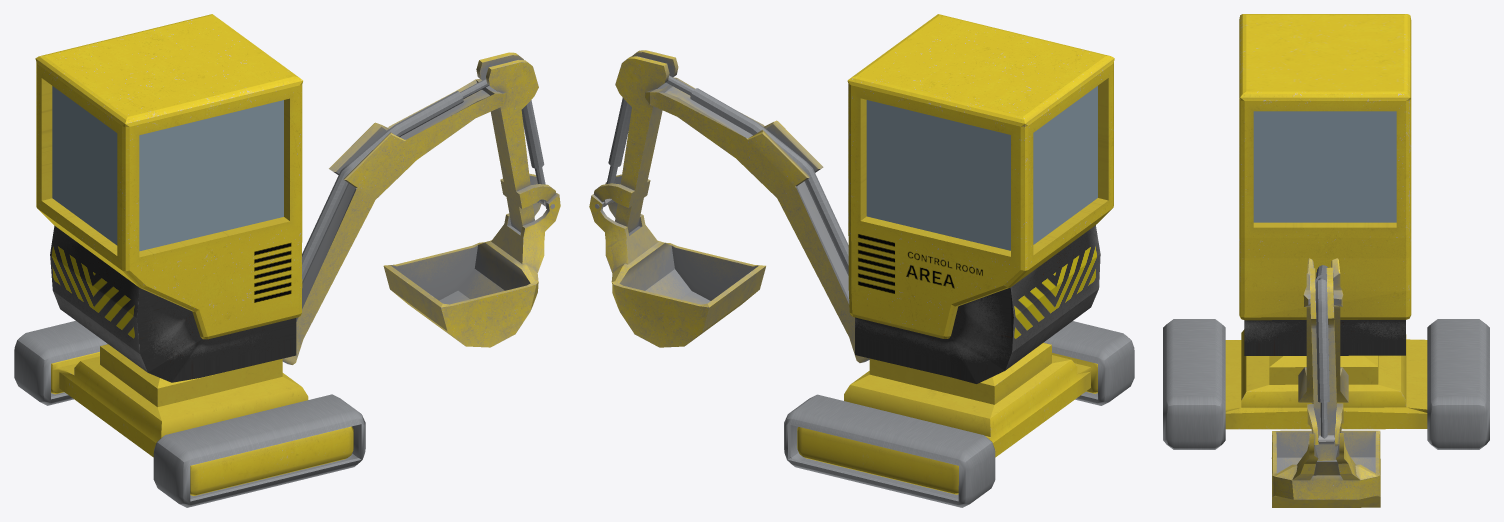
Rendered from digger_1.fbx.
The picture shows the model from 3 angles, left to right: view 1: azimuth 30°, elevation 25°; view 2: azimuth 150°, elevation 25°; view 3: azimuth 270°, elevation 25°; orthographic projection. The views are drawn at different scales.
Visible parts, largest first — view 1: cabin, second_link1, main_body, right_tyre1, second_link_tube1; view 2: cabin, second_link1, main_body, right_tyre1, second_link_tube1; view 3: cabin, right_tyre1, second_link1, main_body, second_link_tube1.
Part boxes in pixels (x1,y1,x2,y2): cabin: (35, 14, 302, 382); second_link1: (282, 52, 560, 364); main_body: (51, 344, 353, 495); right_tyre1: (14, 320, 365, 507); second_link_tube1: (302, 78, 545, 283); cabin: (847, 14, 1114, 383); second_link1: (589, 50, 869, 362); main_body: (797, 342, 1097, 494); right_tyre1: (784, 321, 1134, 507); second_link_tube1: (606, 75, 848, 275); cabin: (1239, 14, 1411, 355); right_tyre1: (1163, 319, 1489, 449); second_link1: (1271, 258, 1380, 507); main_body: (1225, 329, 1427, 429); second_link_tube1: (1315, 265, 1329, 438).
Bounding box in the file's own units: 32.35 × 24.06 × 20.46.
